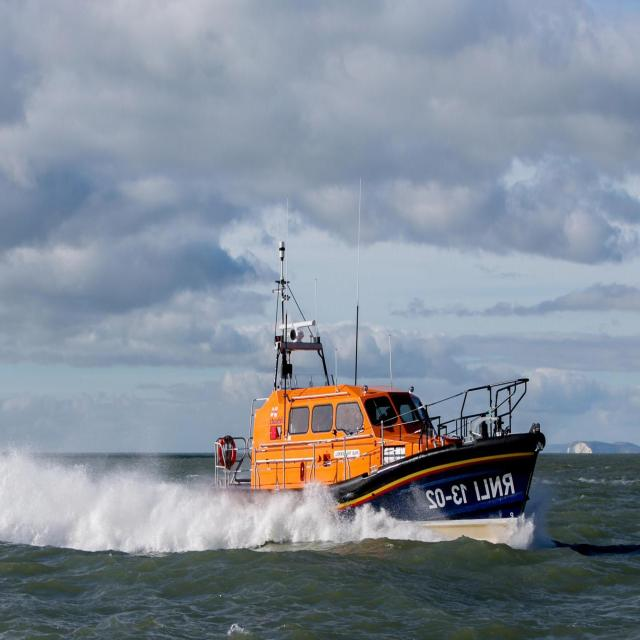houseboat: (207, 258, 549, 547)
